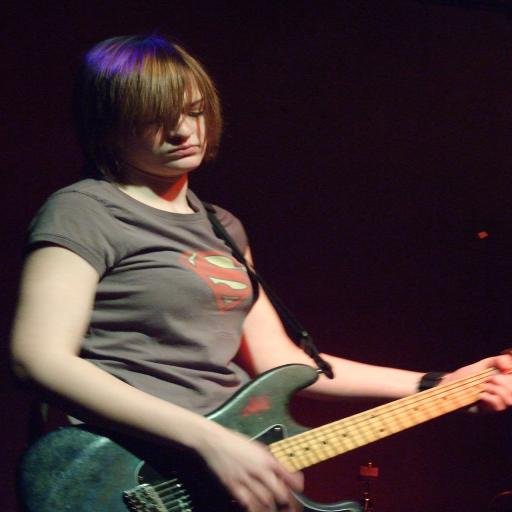Person: (47, 20, 450, 505)
no_gloves: (183, 392, 314, 508), (344, 339, 452, 437)
no_goggle: (136, 91, 242, 133)
no_helmet: (98, 30, 232, 174)
none: (85, 174, 292, 434)
